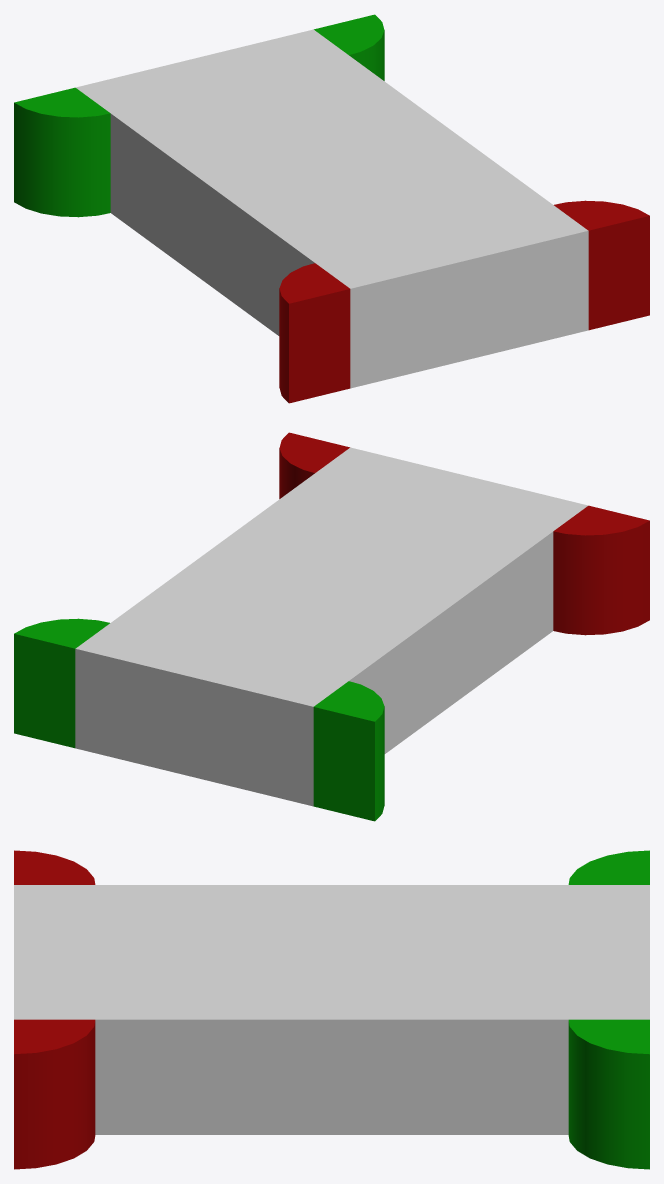
The model's file is tile_straight.glb.
3 renders of one model, top to bottom at view 1: azimuth 30°, elevation 25°; view 2: azimuth 150°, elevation 25°; view 3: azimuth 270°, elevation 25°, orthographic. The views are drawn at different scales.
Parts seen in each view (by area): view 1: merge; view 2: merge; view 3: merge.
Boxes of the visible parts, x1,y1,x2,y2 form: merge: [14, 14, 649, 403]; merge: [14, 432, 649, 821]; merge: [14, 850, 649, 1169].
Bounding box in the file's own units: 0.758 × 0.2 × 1.
